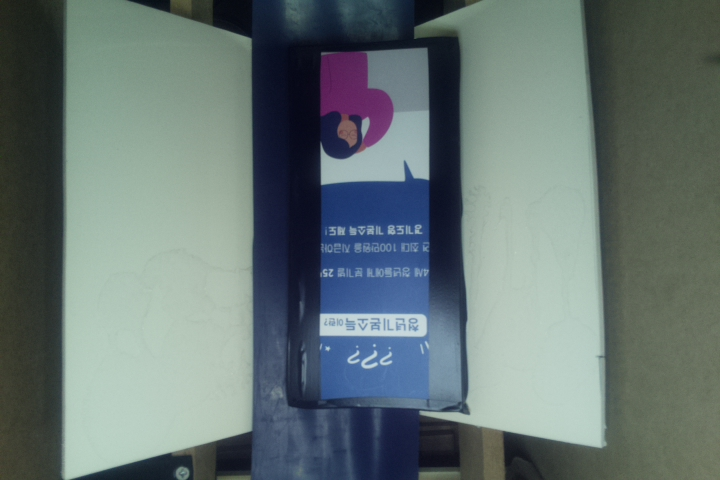book: (287, 35, 463, 411)
